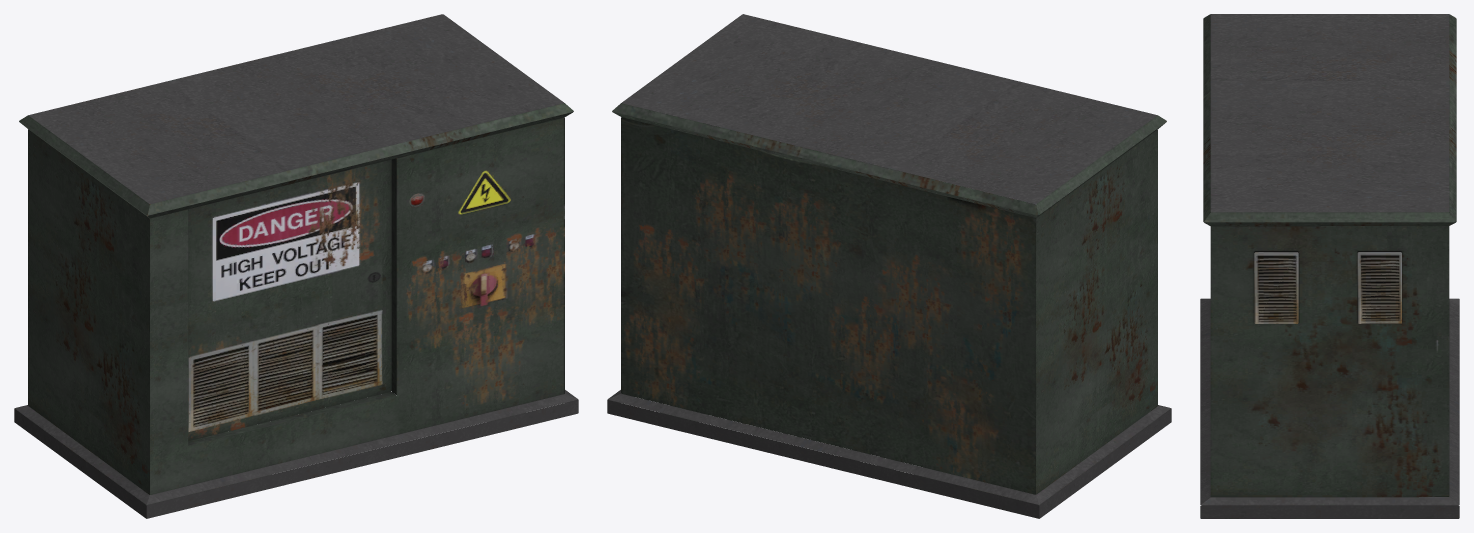
Rendered from generator.obj.
The picture shows the model from 3 angles, left to right: view 1: azimuth 30°, elevation 25°; view 2: azimuth 150°, elevation 25°; view 3: azimuth 270°, elevation 25°; orthographic projection. The views are drawn at different scales.
Parts seen in each view (by area): view 1: Mesheselectricbox1; view 2: Mesheselectricbox1; view 3: Mesheselectricbox1.
Part boxes in pixels (bbox=[...]): Mesheselectricbox1: bbox=[14, 14, 578, 518]; Mesheselectricbox1: bbox=[607, 14, 1171, 518]; Mesheselectricbox1: bbox=[1200, 14, 1459, 518].
Bounding box in the file's own units: 8.24 × 5.62 × 4.37.
Materials: 1 (1 with a texture image).
